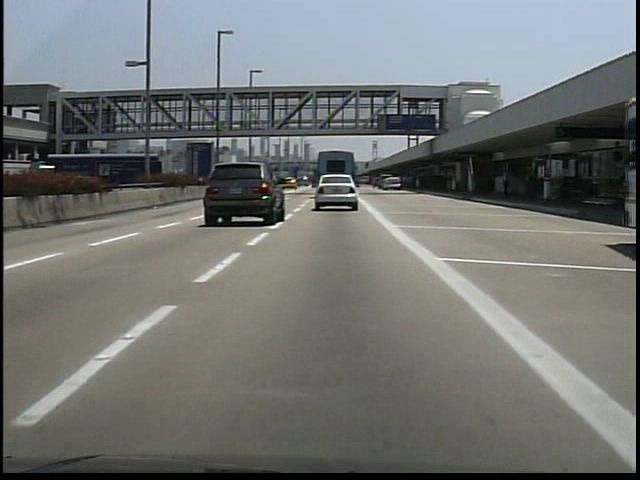person: (495, 167, 515, 204)
